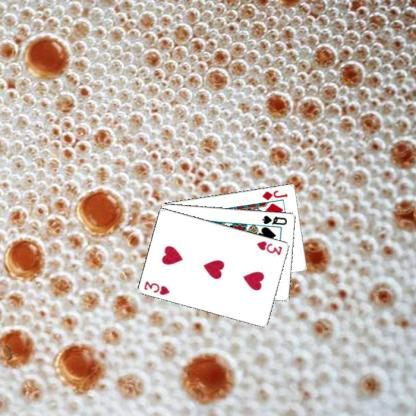3H: (254, 238, 284, 256), (142, 278, 171, 296)
JD: (260, 188, 289, 201)
QS: (260, 213, 288, 226)
